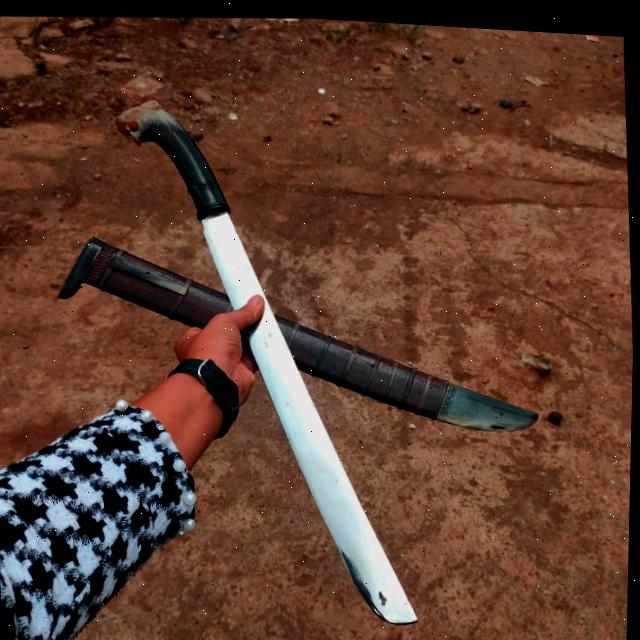long knife: (106, 84, 431, 635)
